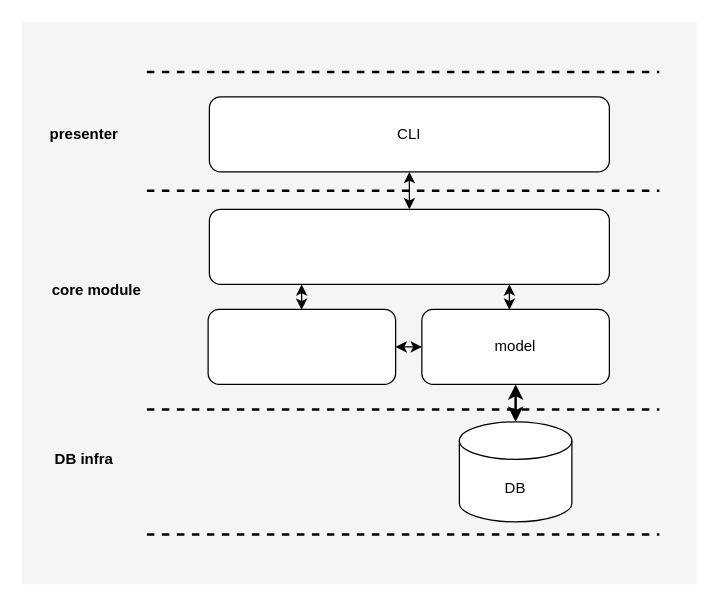
Image size: 718x605. Some labels were removed from this diagram. The shapes that lost their labels are listed below. From the top down, each one's centre as x and y in pixels, then its label:
At (x=408, y=246): "service".
At (x=301, y=346): "repository".
